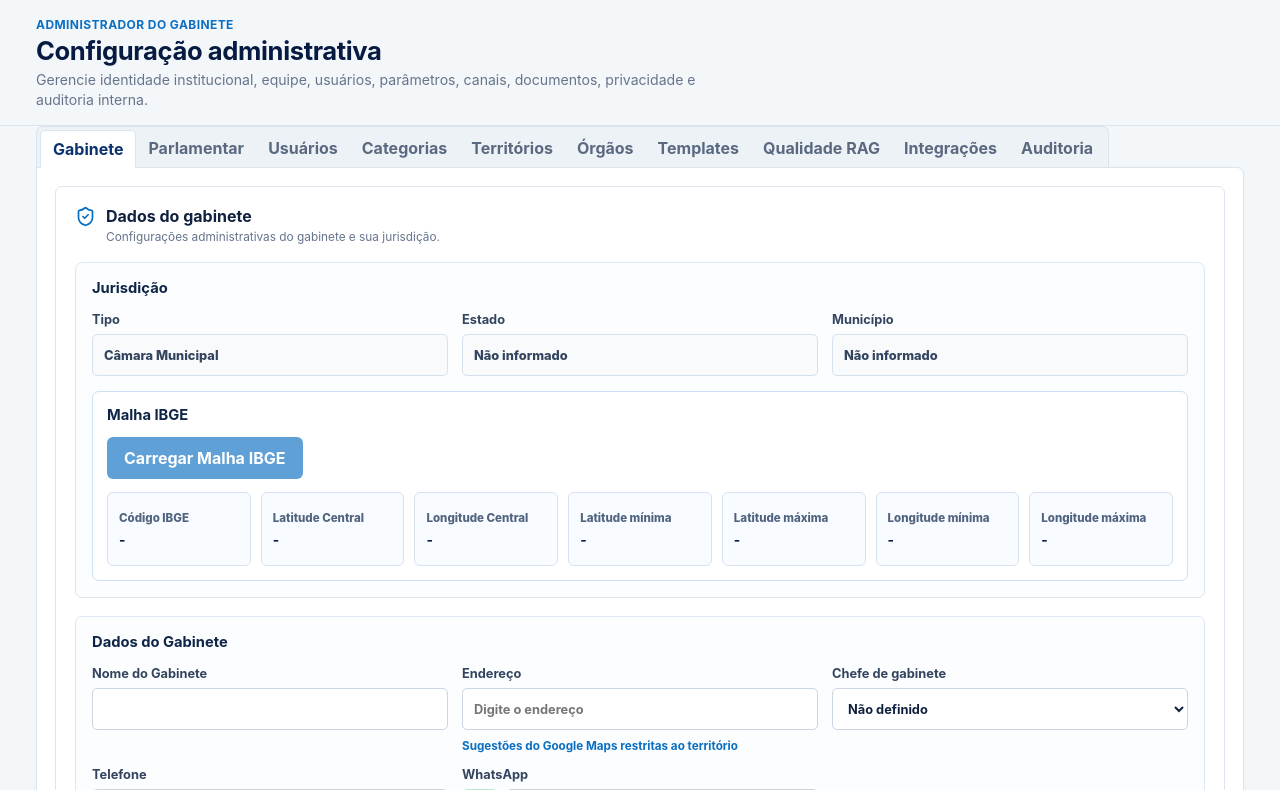
it: AdministrationPage office settings › acompanha o rollout progressivo do perfil RAG
The width and height of the screenshot is (1280, 790).
Click the button "Qualidade RAG" at [821, 148], box [751,130,892,165]
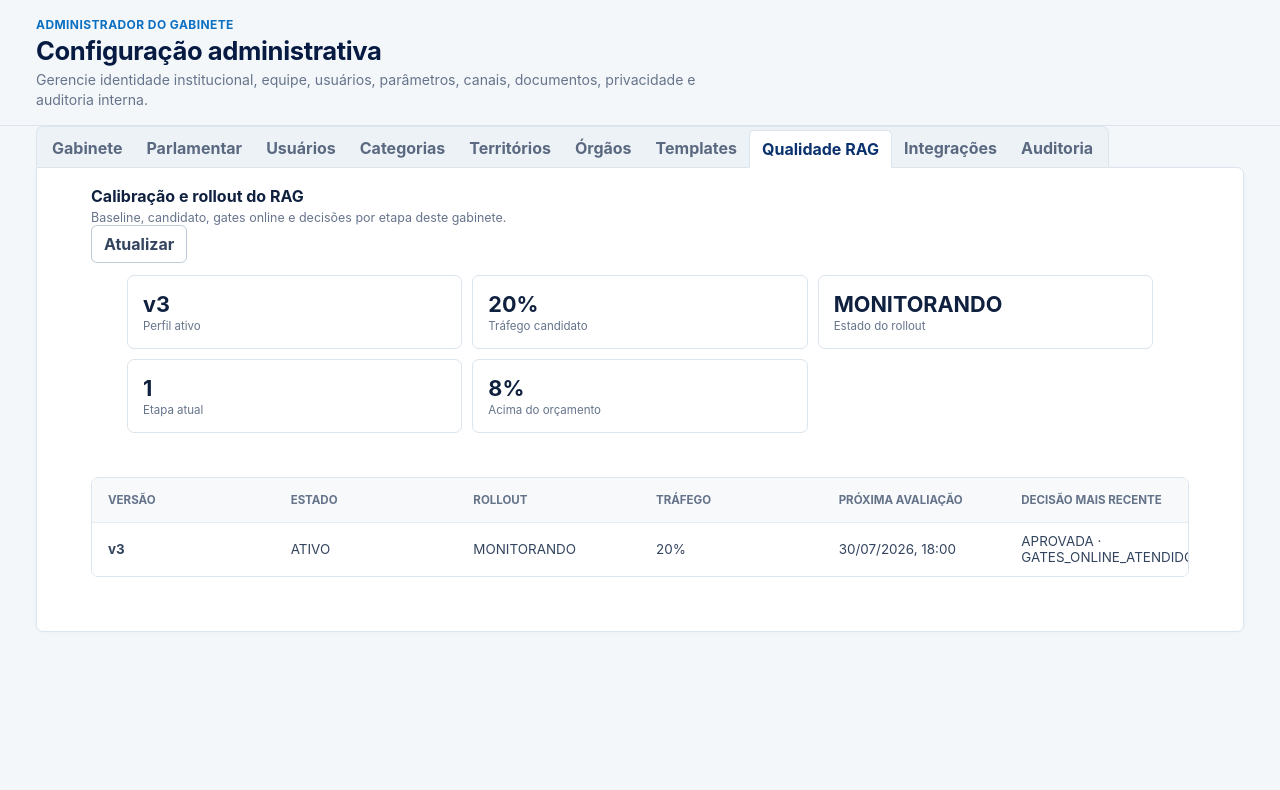
Expected: the heading "Calibração e rollout do RAG" is shown, [91,186,304,206]
Expected: the text "v3" is shown 2 times, [143,291,170,317]; [108,542,125,558]
Expected: the text "20%" is shown 2 times, [488,291,538,317]; [640,522,823,576]
